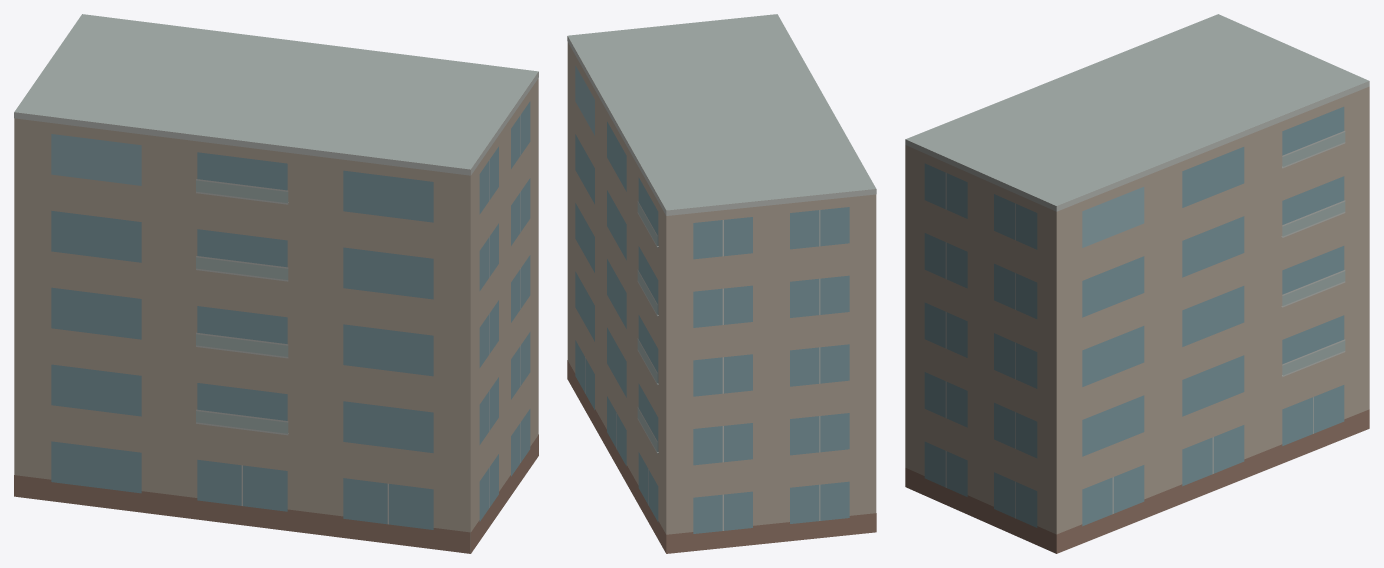
Rendered from survey-upis-32595423.glb.
3 views of the same model, side by side, from view 1: azimuth 30°, elevation 25°; view 2: azimuth 150°, elevation 25°; view 3: azimuth 270°, elevation 25° (orthographic). The views are drawn at different scales.
Parts seen in each view (by area): view 1: survey-upis-32595423.tmp; view 2: survey-upis-32595423.tmp; view 3: survey-upis-32595423.tmp.
Boxes of the visible parts, box(x1,y1,x2,y2) form: survey-upis-32595423.tmp: box(14, 14, 538, 553); survey-upis-32595423.tmp: box(567, 14, 876, 553); survey-upis-32595423.tmp: box(905, 14, 1369, 553).
Bounding box in the file's own units: 18.08 × 15.25 × 18.46.
